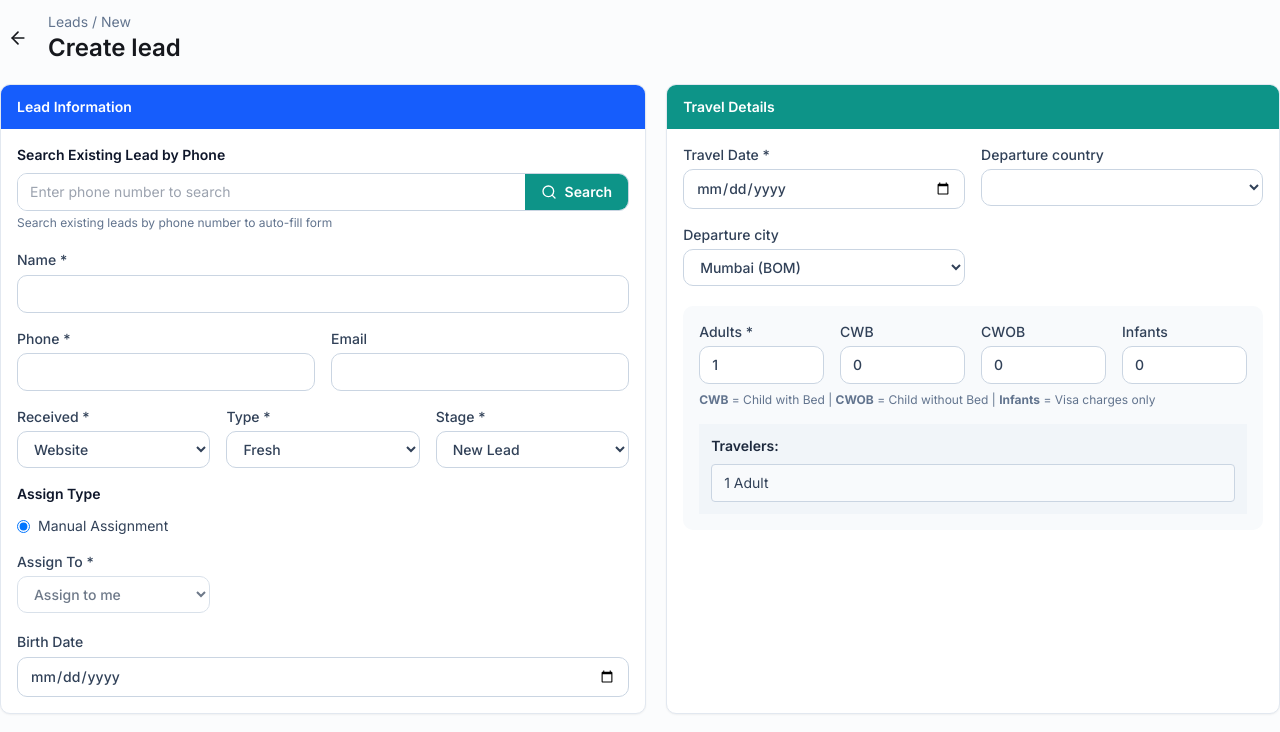
Test: Phase 6 lead pages › autofills the form from the phone search for an existing lead
Check: the heading "Create lead" is shown, box x1=48 y1=32 x2=181 y2=64
Check: the field labelled "Name" is empty, box x1=17 y1=275 x2=629 y2=313
// Search by phone and confirm the autofill.
Type "98765" into the field named "Search existing lead by phone" at (271, 192), box x1=18 y1=174 x2=525 y2=210
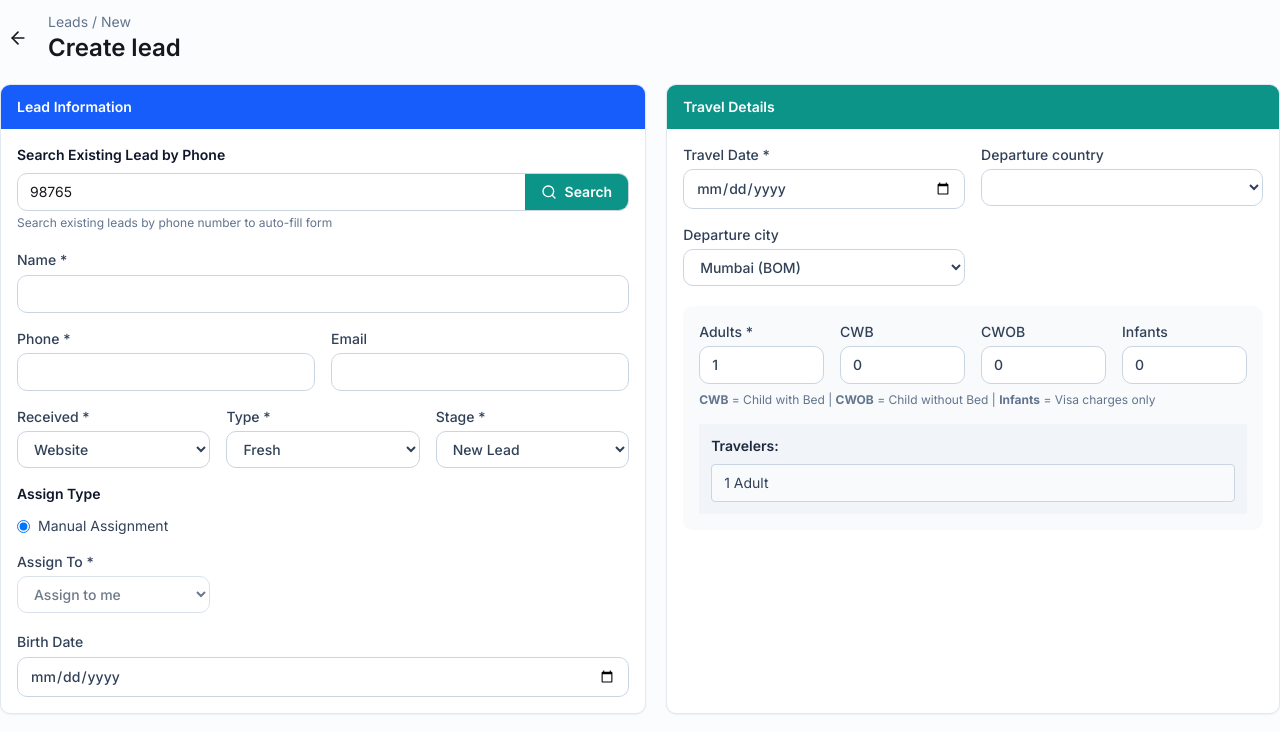
Click the button "Search" at (576, 192), box x1=525 y1=174 x2=628 y2=210
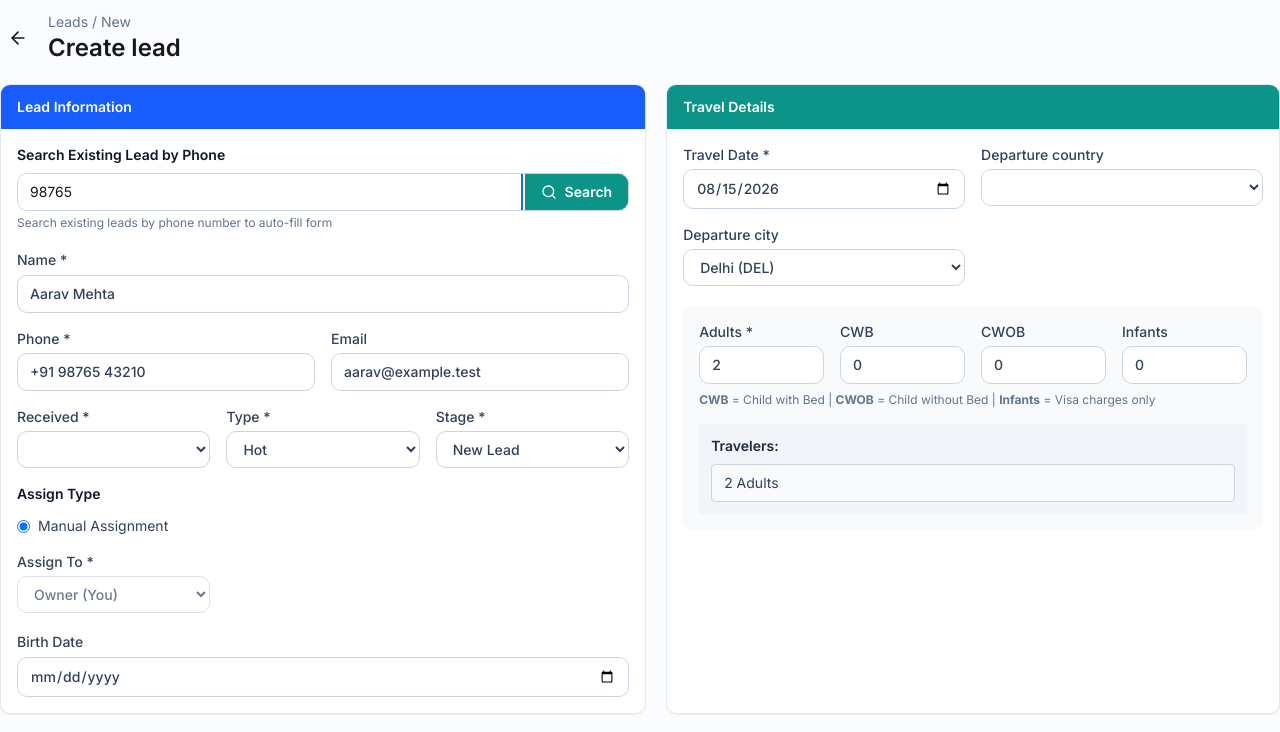
Check: the field labelled "Name" holds "Aarav Mehta", box x1=17 y1=275 x2=629 y2=313
Check: the field labelled "Phone" holds "+91 98765 43210", box x1=17 y1=353 x2=315 y2=391
